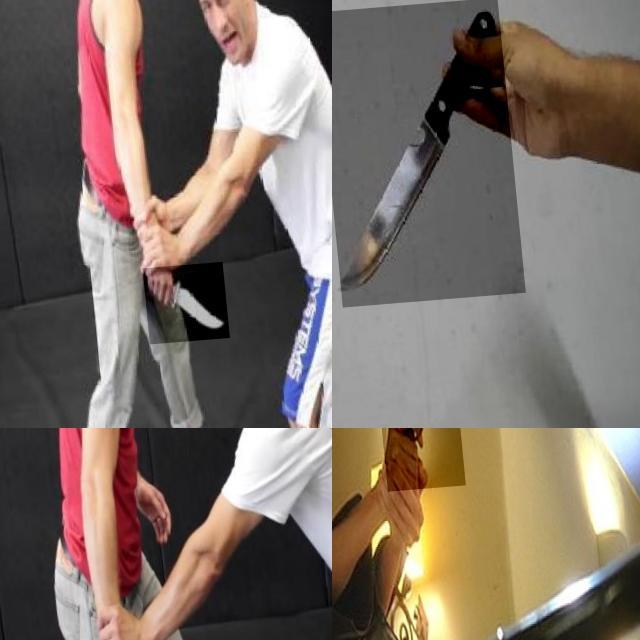-: (332, 5, 518, 311), (136, 268, 222, 348)
gun-knife-thesis - v11 Yolov5 augmented: (372, 428, 462, 507)
